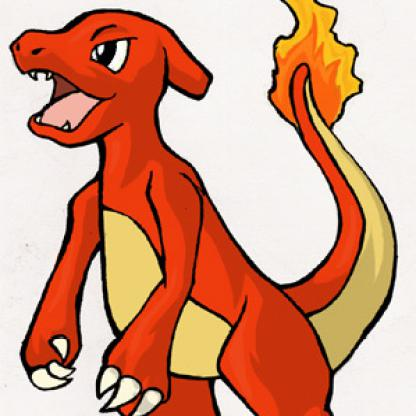Charmeleon: (9, 1, 403, 416)
